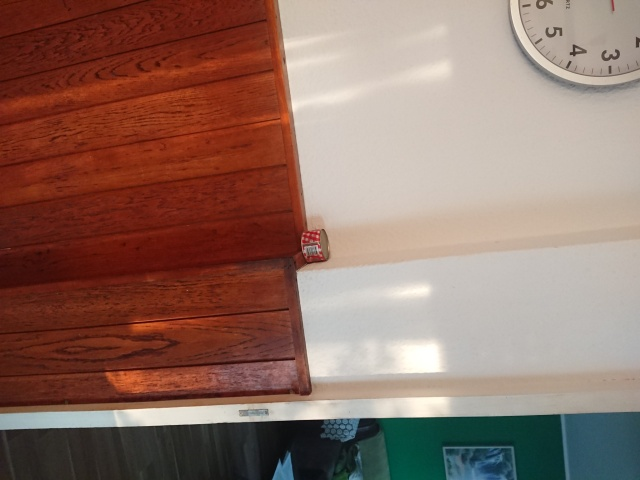Podravka Luncheon Meat 150g: (298, 226, 333, 265)
